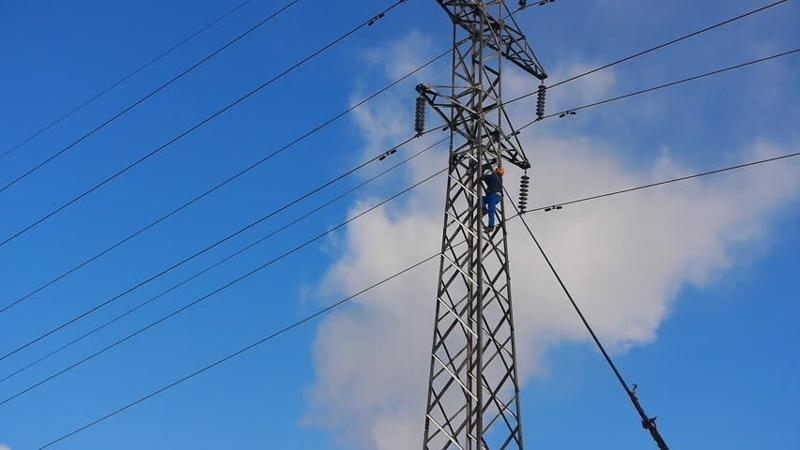power_tower: (400, 6, 551, 447)
